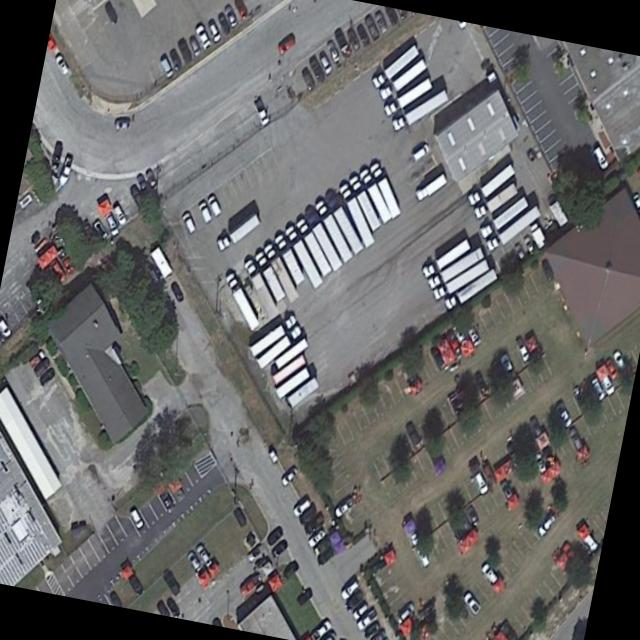large-vehicle: (324, 190, 365, 256), (486, 206, 541, 253), (314, 200, 354, 264), (428, 247, 485, 291), (285, 225, 323, 290), (392, 89, 449, 132), (305, 211, 344, 273), (433, 259, 489, 302), (339, 183, 375, 249), (444, 268, 498, 312), (263, 244, 300, 305), (295, 217, 332, 278), (243, 258, 279, 319), (372, 45, 420, 90), (467, 164, 516, 207), (226, 273, 261, 332), (481, 197, 529, 240), (384, 77, 433, 119), (251, 314, 297, 358), (258, 325, 302, 370), (380, 59, 427, 101), (359, 168, 393, 226), (423, 238, 471, 279), (369, 162, 402, 220), (216, 213, 262, 254), (349, 175, 381, 233), (274, 234, 306, 286), (474, 183, 518, 220), (256, 251, 286, 302), (416, 173, 448, 203), (528, 220, 547, 251)
small-vehicle: (313, 527, 344, 560), (317, 539, 347, 568), (332, 25, 353, 60), (401, 517, 423, 550), (536, 510, 560, 540), (156, 484, 177, 515), (304, 511, 327, 539), (298, 500, 320, 529), (404, 420, 424, 451), (166, 475, 187, 504), (309, 54, 328, 86), (239, 572, 262, 598), (356, 607, 379, 633), (253, 95, 271, 128), (59, 153, 76, 186), (499, 353, 517, 384), (339, 578, 361, 603), (472, 469, 491, 497), (592, 144, 611, 172), (292, 494, 313, 519), (307, 524, 328, 549), (344, 589, 365, 614), (396, 602, 417, 627), (555, 401, 573, 430), (164, 571, 183, 598), (463, 590, 482, 617), (333, 497, 355, 520), (195, 24, 213, 52), (277, 33, 298, 57), (473, 371, 491, 399), (364, 15, 382, 43), (480, 562, 499, 588), (177, 37, 193, 67), (280, 465, 300, 489), (590, 376, 606, 405), (310, 619, 332, 640), (266, 525, 286, 548), (223, 4, 240, 31), (430, 345, 447, 372), (515, 337, 532, 364), (127, 573, 146, 597), (103, 1, 121, 26), (373, 9, 389, 37), (104, 211, 121, 237), (130, 184, 147, 210), (196, 543, 213, 569), (466, 324, 483, 350), (295, 586, 315, 608), (33, 356, 52, 379), (351, 601, 370, 624), (355, 21, 371, 48), (568, 426, 584, 453), (129, 507, 146, 532), (611, 350, 628, 375), (499, 620, 520, 640), (411, 142, 431, 163), (246, 543, 266, 564), (301, 67, 317, 93), (325, 39, 341, 65), (208, 195, 224, 220), (54, 53, 70, 78), (346, 27, 362, 52), (38, 366, 57, 387), (92, 219, 110, 241), (283, 559, 301, 581), (271, 538, 289, 560), (198, 200, 213, 226), (112, 203, 128, 227), (188, 551, 204, 575), (170, 280, 186, 304), (528, 415, 544, 439), (232, 505, 248, 529), (583, 533, 599, 557), (28, 350, 46, 371), (207, 18, 222, 43), (217, 12, 232, 37), (144, 167, 159, 192), (182, 211, 197, 236), (169, 47, 184, 72), (233, 0, 249, 23), (159, 57, 175, 80), (319, 53, 334, 77), (533, 452, 548, 476), (466, 505, 481, 529), (363, 620, 381, 640), (51, 140, 64, 167), (188, 35, 203, 58), (541, 258, 555, 282), (500, 479, 515, 501), (602, 374, 616, 397), (0, 317, 13, 340), (522, 236, 536, 257), (136, 173, 149, 195), (513, 243, 527, 263), (115, 119, 132, 131), (632, 192, 640, 214), (372, 629, 388, 640)
